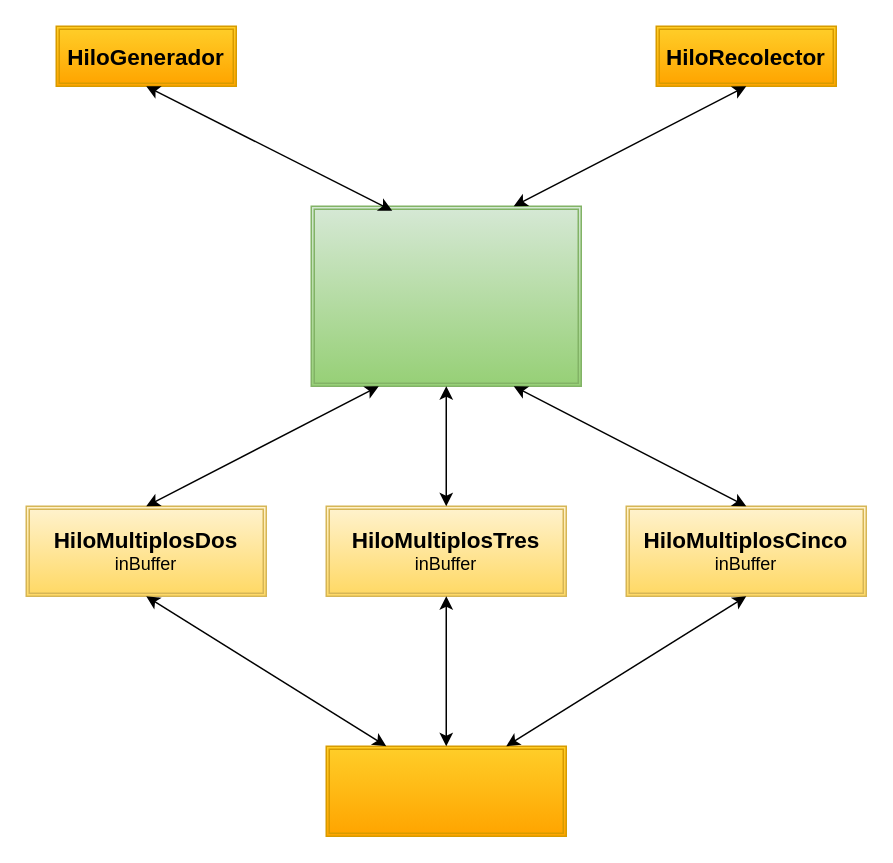
This 893x863 diagram has some shape labels left out. The shapes that lost their labels are listed below. From the top down, each one's box as (x1, y1, x2, y2) in pixels, then its label:
(310, 205, 581, 386): HiloControlador sharedBuffer
(325, 745, 566, 836): HiloMezclador mixedBuffer
